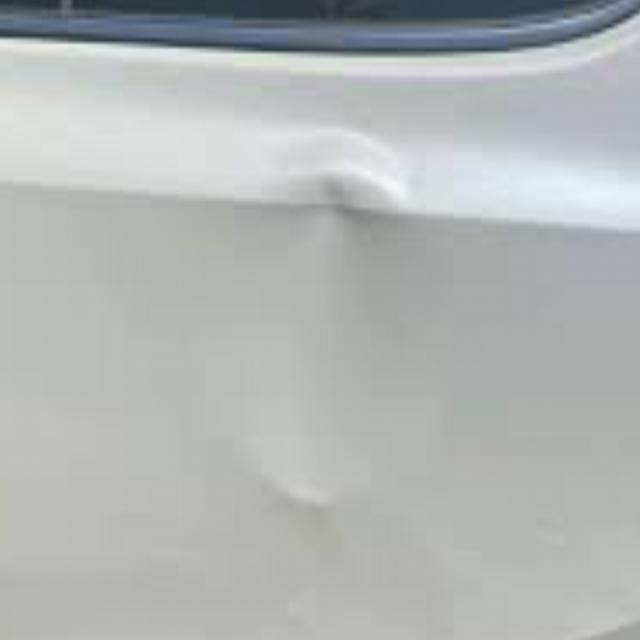dents: (299, 166, 396, 259), (265, 454, 338, 534)
